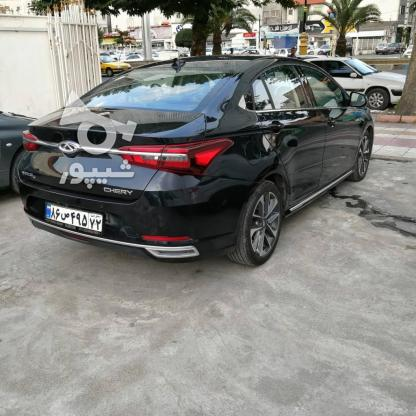car: (45, 201, 103, 233)
